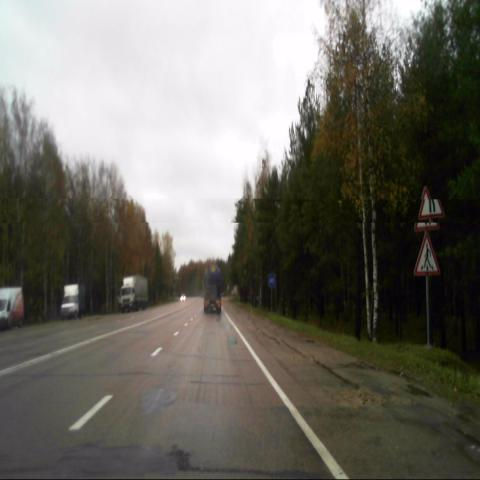1_20_2: (414, 187, 438, 232)
